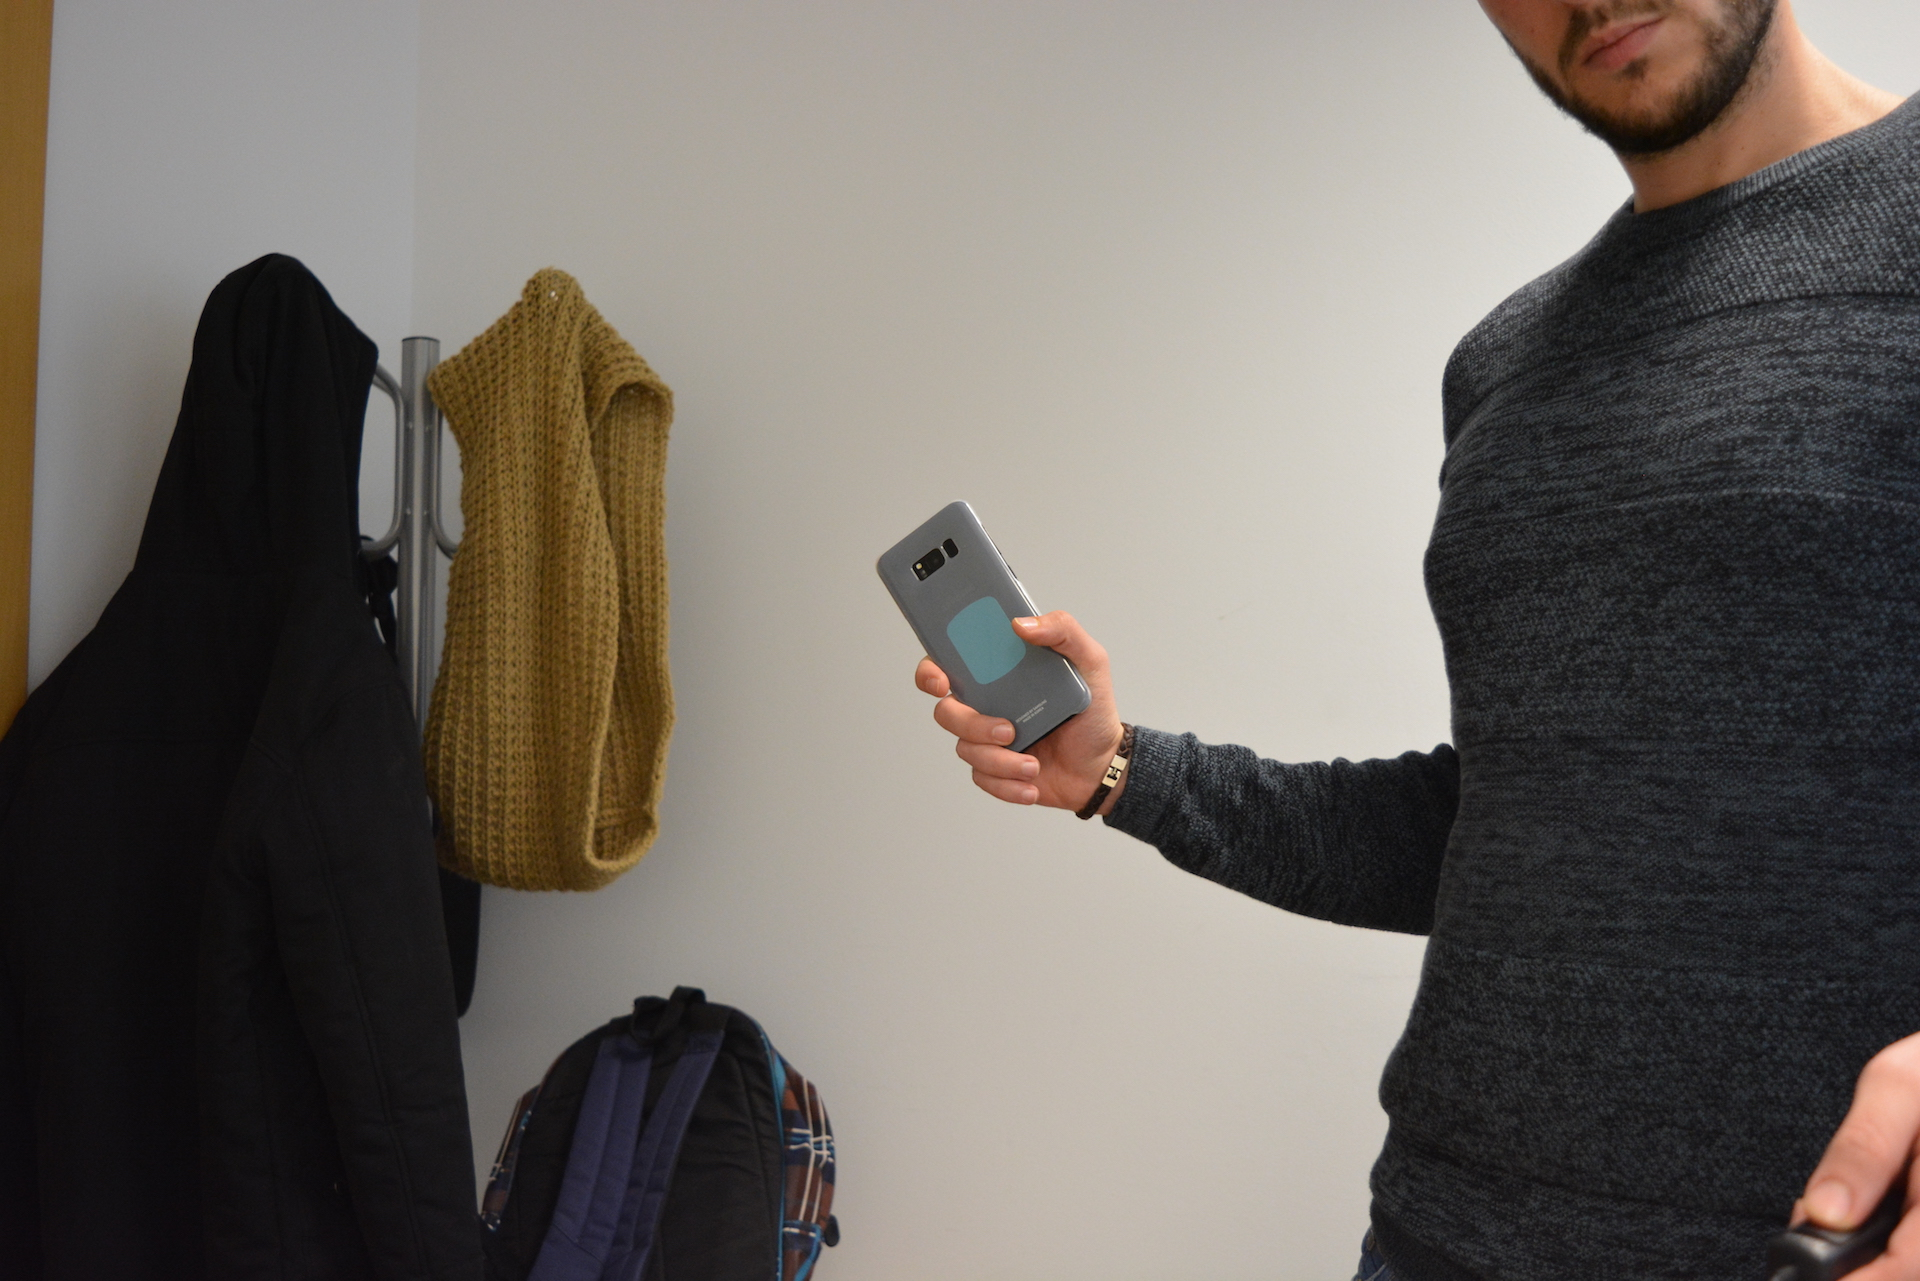smartphone: (874, 498, 1094, 755)
